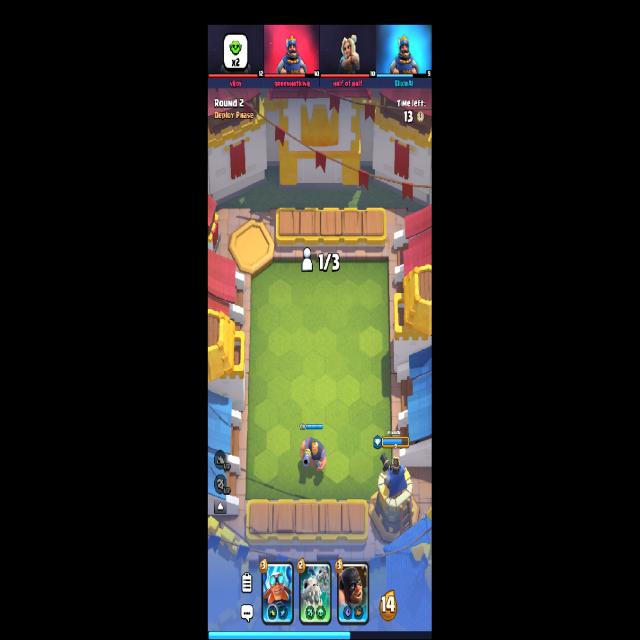card_electro_giant: (262, 561, 293, 624)
card_executioner: (337, 561, 370, 626)
card_skeleton_dragon: (298, 560, 332, 624)
royal_giant: (300, 436, 326, 471)
